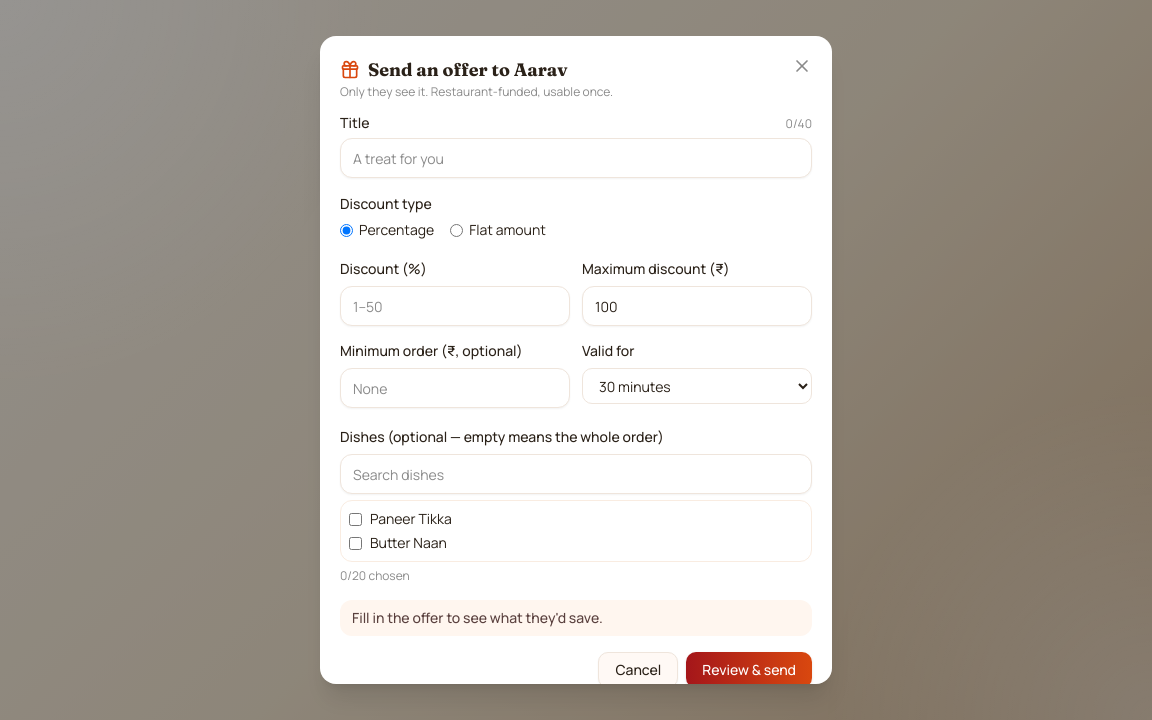
preview › ignores a response that arrives after a newer one
The width and height of the screenshot is (1152, 720).
Type "A treat" into the field labelled "Title" at [576, 158], box [340,138,812,178]
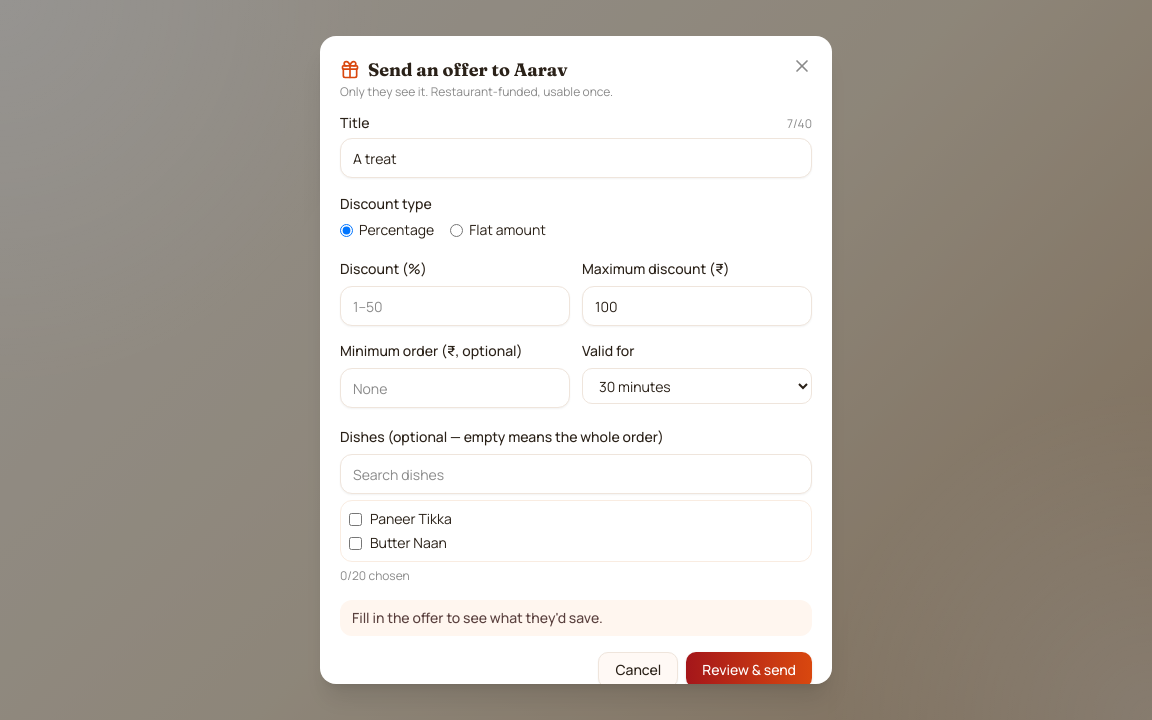
Type "10" into the field labelled "Discount (%)" at [455, 306], box [340,286,570,326]
Wait 400 ms
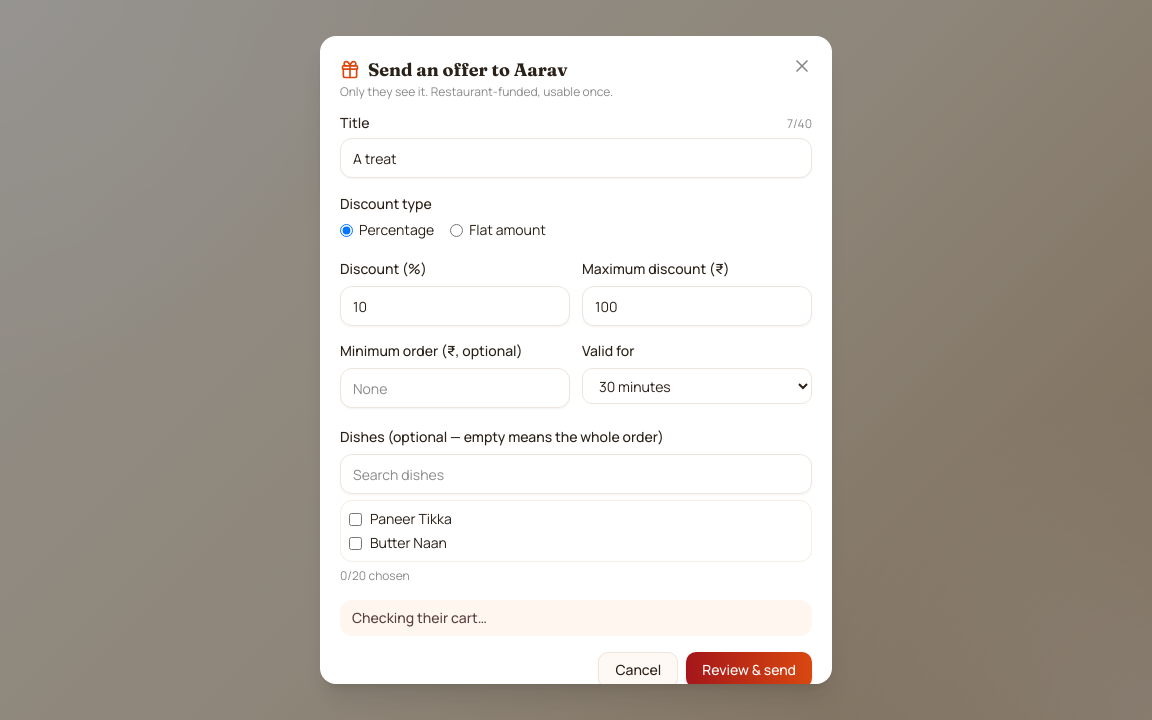
Replace the text in the field labelled "Discount (%)" with "20" at [455, 306], box [340,286,570,326]
Wait 400 ms
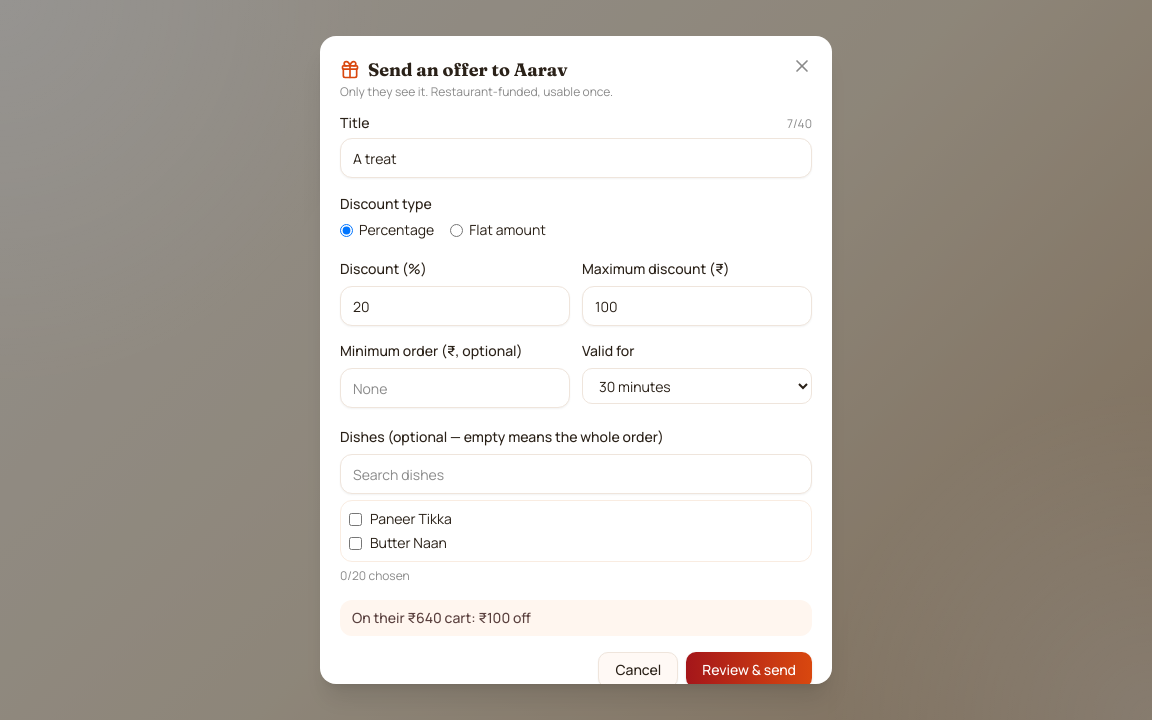
Now the text with test id "offer-preview" reads "On their ₹640 cart: ₹100 off", box [352,608,531,627]
